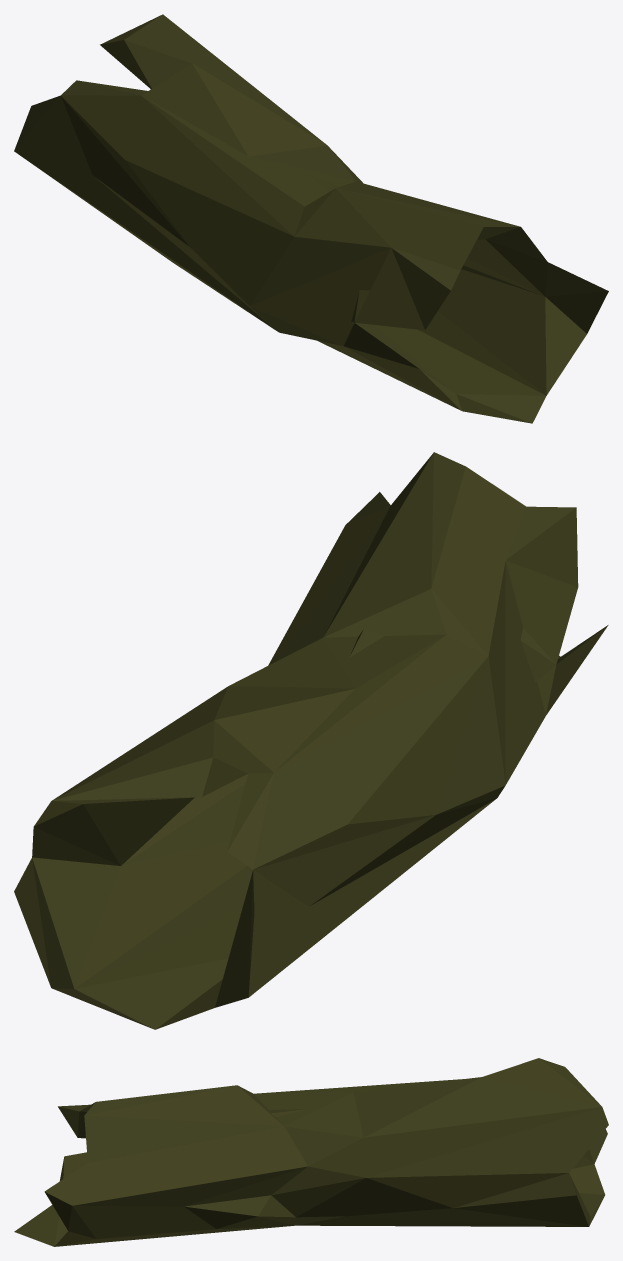
File: rainforest-log-b.lod2.glb
3 views of the same model, one above another, from view 1: azimuth 30°, elevation 25°; view 2: azimuth 150°, elevation 25°; view 3: azimuth 270°, elevation 25° (orthographic). The views are drawn at different scales.
Parts seen in each view (by area): view 1: SM_RainForest_TreeTrunk_B_LOD0.mo_MI_RainForest_TreeTrunk_B_; view 2: SM_RainForest_TreeTrunk_B_LOD0.mo_MI_RainForest_TreeTrunk_B_; view 3: SM_RainForest_TreeTrunk_B_LOD0.mo_MI_RainForest_TreeTrunk_B_.
Boxes of the visible parts, box(x1,y1,x2,y2) form: SM_RainForest_TreeTrunk_B_LOD0.mo_MI_RainForest_TreeTrunk_B_: box(14, 14, 608, 423); SM_RainForest_TreeTrunk_B_LOD0.mo_MI_RainForest_TreeTrunk_B_: box(14, 452, 608, 1029); SM_RainForest_TreeTrunk_B_LOD0.mo_MI_RainForest_TreeTrunk_B_: box(14, 1058, 608, 1246).
Bounding box in the file's own units: 6.11 × 3.97 × 14.94.
